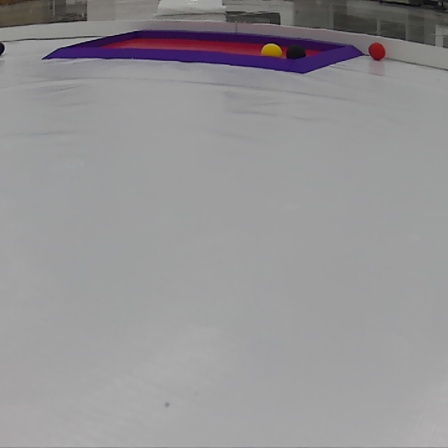black: (286, 43, 306, 59)
red: (368, 40, 384, 61)
red_aim: (41, 30, 366, 80)
yellow: (261, 42, 278, 60)
